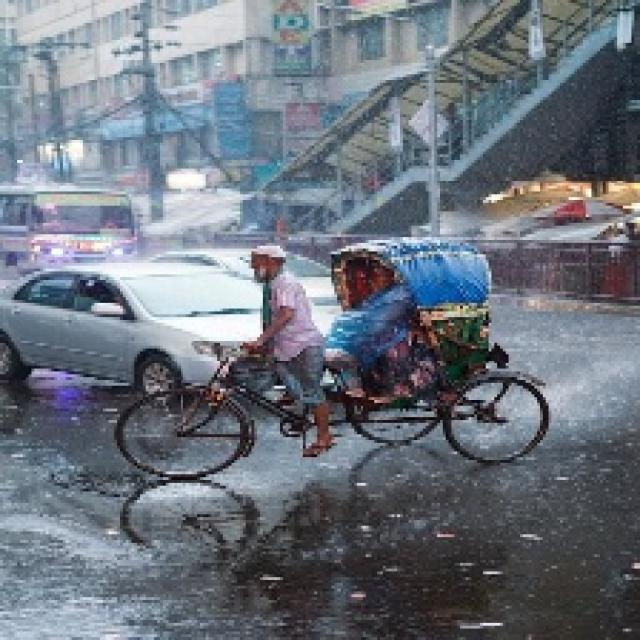car: (12, 237, 250, 398)
rickshaw: (108, 244, 536, 474)
